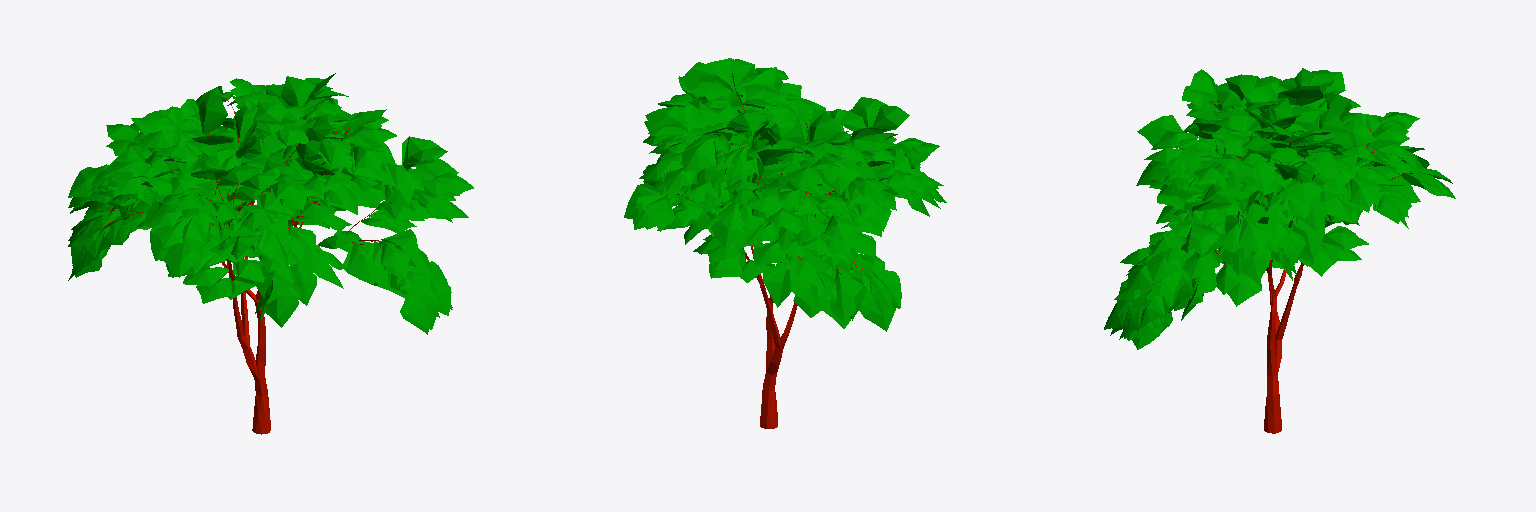
The model's file is tree2.obj.
The picture shows the model from 3 angles: view 1: azimuth 30°, elevation 25°; view 2: azimuth 150°, elevation 25°; view 3: azimuth 270°, elevation 25°; orthographic projection.
Visible parts, largest first — view 1: Tree_polySurface1_g1_g2_polySurface1, Tree_polySurface1_g1_polySurface1; view 2: Tree_polySurface1_g1_g2_polySurface1, Tree_polySurface1_g1_polySurface1; view 3: Tree_polySurface1_g1_g2_polySurface1, Tree_polySurface1_g1_polySurface1.
Boxes of the visible parts, x1=… form: Tree_polySurface1_g1_g2_polySurface1: x1=68, y1=73, x2=473, y2=334; Tree_polySurface1_g1_polySurface1: x1=93, y1=97, x2=404, y2=434; Tree_polySurface1_g1_g2_polySurface1: x1=624, y1=58, x2=946, y2=331; Tree_polySurface1_g1_polySurface1: x1=667, y1=88, x2=890, y2=428; Tree_polySurface1_g1_g2_polySurface1: x1=1104, y1=68, x2=1455, y2=349; Tree_polySurface1_g1_polySurface1: x1=1198, y1=102, x2=1413, y2=433.
Size of the model in its own units: 3.63 by 3.82 by 3.55.